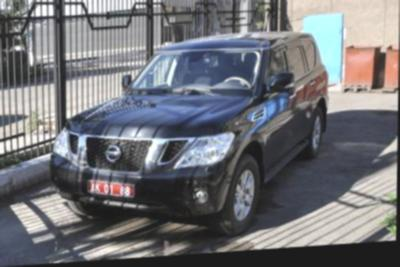License_Plate: (87, 177, 133, 201)
